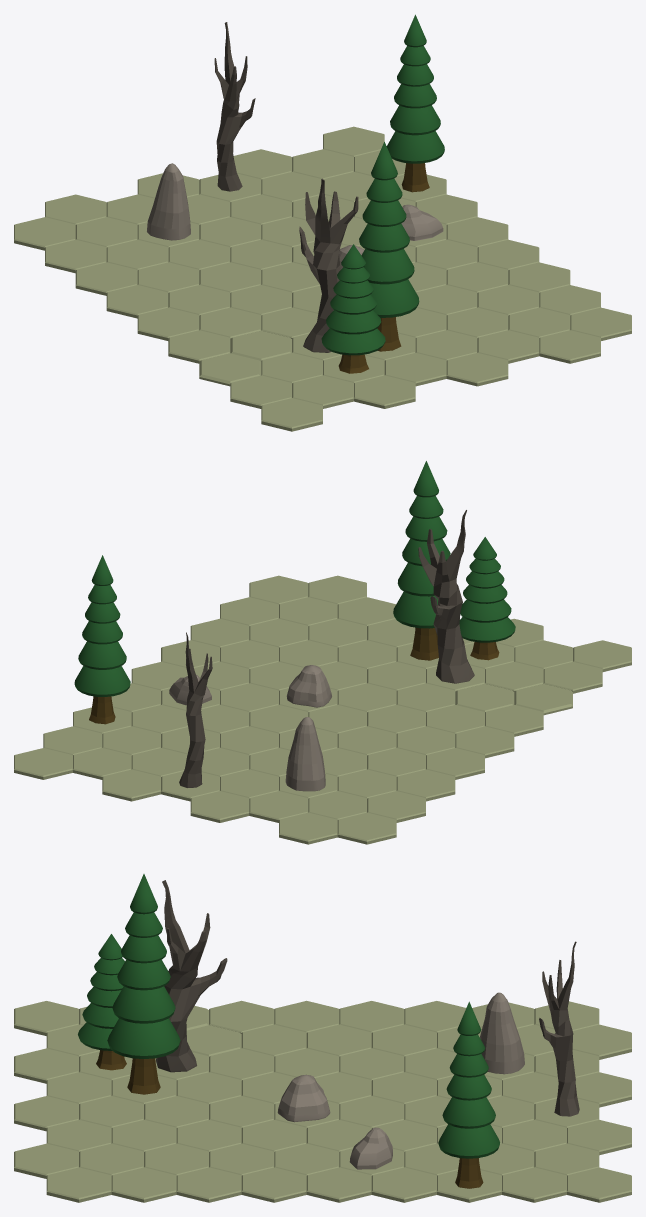
The model's file is BattleField_Textured.fbx.
The picture shows the model from 3 angles, top to bottom: view 1: azimuth 30°, elevation 25°; view 2: azimuth 150°, elevation 25°; view 3: azimuth 270°, elevation 25°; orthographic projection. The views are drawn at different scales.
Visible parts, largest first — view 1: pCube3, pCube7, pCube1, pCylinder53, pCylinder80, pCube6, pCylinder75, pCylinder73, pCylinder78, pCylinder77, pCylinder68, pCylinder74 (+58 smaller); view 2: pCube3, pCube7, pCylinder53, pCube1, pCylinder80, pCube6, pCylinder56, pCylinder64, pCylinder60, pCylinder55, pCylinder54, pCylinder71 (+63 smaller); view 3: pCube3, pCube7, pCylinder53, pCube1, pCylinder80, pCube6, pCylinder50, pCylinder48, pCylinder49, pCylinder62, pCylinder72, pCube5 (+62 smaller).
Part boxes in pixels (x1,y1,x2,y2): pCube3: (359,141,419,351); pCube7: (386,14,444,192); pCube1: (321,244,385,373); pCylinder53: (299,178,358,352); pCylinder80: (214,22,255,191); pCube6: (147,163,190,240); pCylinder75: (446,353,508,386); pCylinder73: (539,330,600,363); pCylinder78: (261,398,322,431); pCylinder77: (354,375,415,408); pCylinder68: (168,330,230,363); pCylinder74: (477,330,539,363); pCube3: (393,461,450,660); pCube7: (74,555,130,724); pCylinder53: (418,510,474,683); pCube1: (459,537,515,660); pCylinder80: (179,632,212,787); pCube6: (285,717,325,791); pCylinder56: (190,791,249,822); pCylinder64: (337,812,396,844); pCylinder60: (279,812,337,844); pCylinder55: (102,769,160,801); pCylinder54: (14,748,72,779); pCylinder71: (543,662,602,693); pCube3: (107,874,180,1094); pCube7: (438,1001,499,1188); pCylinder53: (156,880,227,1072); pCube1: (78,934,126,1070); pCylinder80: (539,941,579,1116); pCube6: (480,992,524,1074); pCylinder50: (371,1167,436,1202); pCylinder48: (241,1167,306,1202); pCylinder49: (306,1167,371,1202); pCylinder62: (111,1167,176,1202); pCylinder72: (46,1167,111,1202); pCube5: (277,1074,330,1122).
Size of the model in its own units: 26.74 by 13.73 by 35.19.
